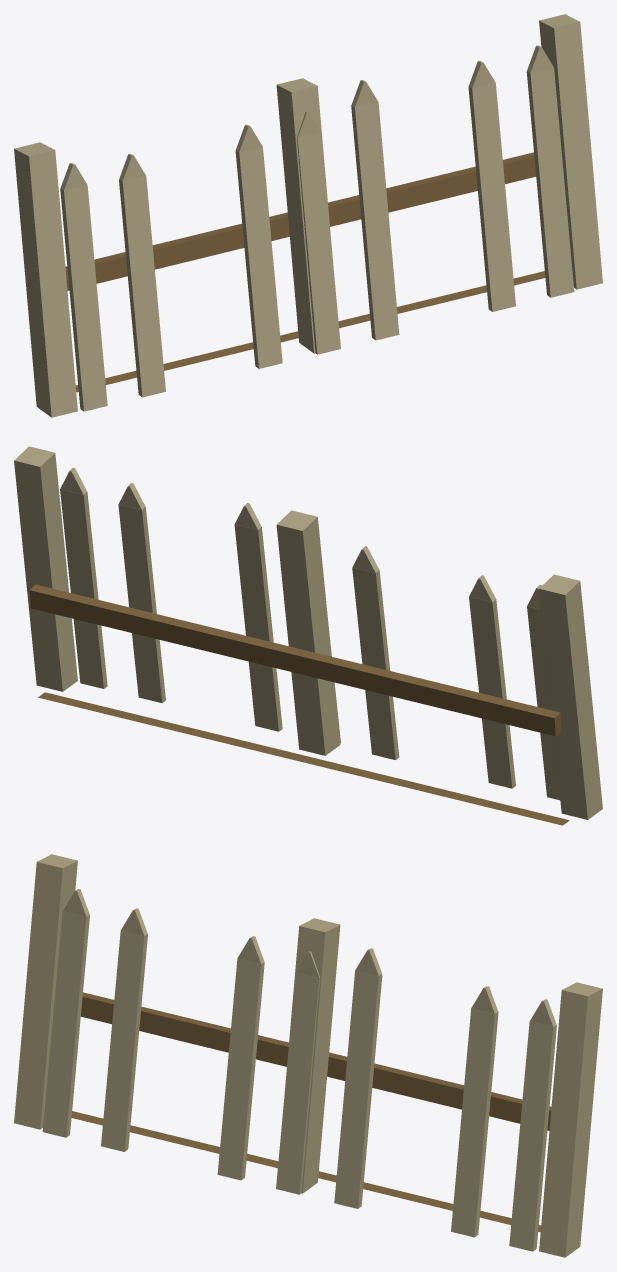
The model's file is drowned_fence_sunk.glb.
3 views of the same model, one above another, from view 1: azimuth 30°, elevation 25°; view 2: azimuth 150°, elevation 25°; view 3: azimuth 330°, elevation 25° (orthographic).
Parts seen in each view (by area): view 1: drowned_fence_sunk; view 2: drowned_fence_sunk; view 3: drowned_fence_sunk.
Part boxes in pixels (x1,y1,x2,y2): drowned_fence_sunk: [14, 14, 602, 417]; drowned_fence_sunk: [14, 446, 602, 825]; drowned_fence_sunk: [14, 854, 602, 1257].
Size of the model in its own units: 2.1 by 0.891 by 0.2613.
